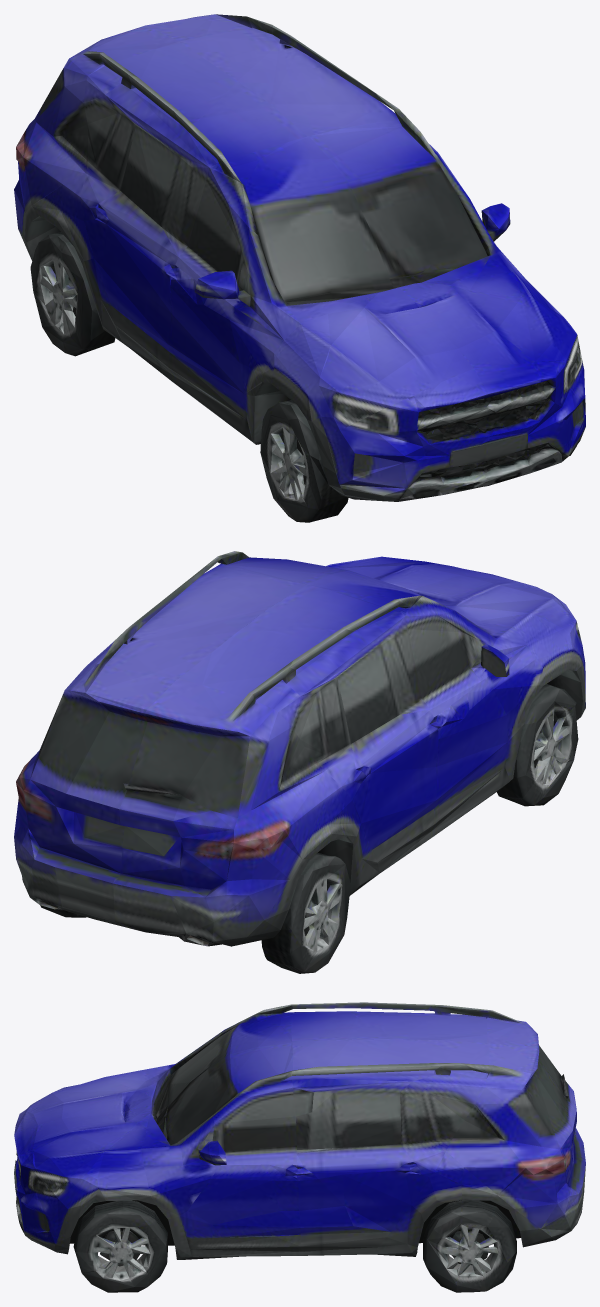
File: gelaende.glb
3 renders of one model, top to bottom at view 1: azimuth 30°, elevation 25°; view 2: azimuth 150°, elevation 25°; view 3: azimuth 270°, elevation 25°, orthographic. The views are drawn at different scales.
Parts seen in each view (by area): view 1: koerper; view 2: koerper; view 3: koerper.
Part boxes in pixels (left/top/right/bottom): koerper: left=14, top=14, right=585, bottom=522; koerper: left=14, top=551, right=585, bottom=973; koerper: left=14, top=1002, right=585, bottom=1292.
Bounding box in the file's own units: 2.25 × 1.94 × 4.69.
1 material, 1 textured.
